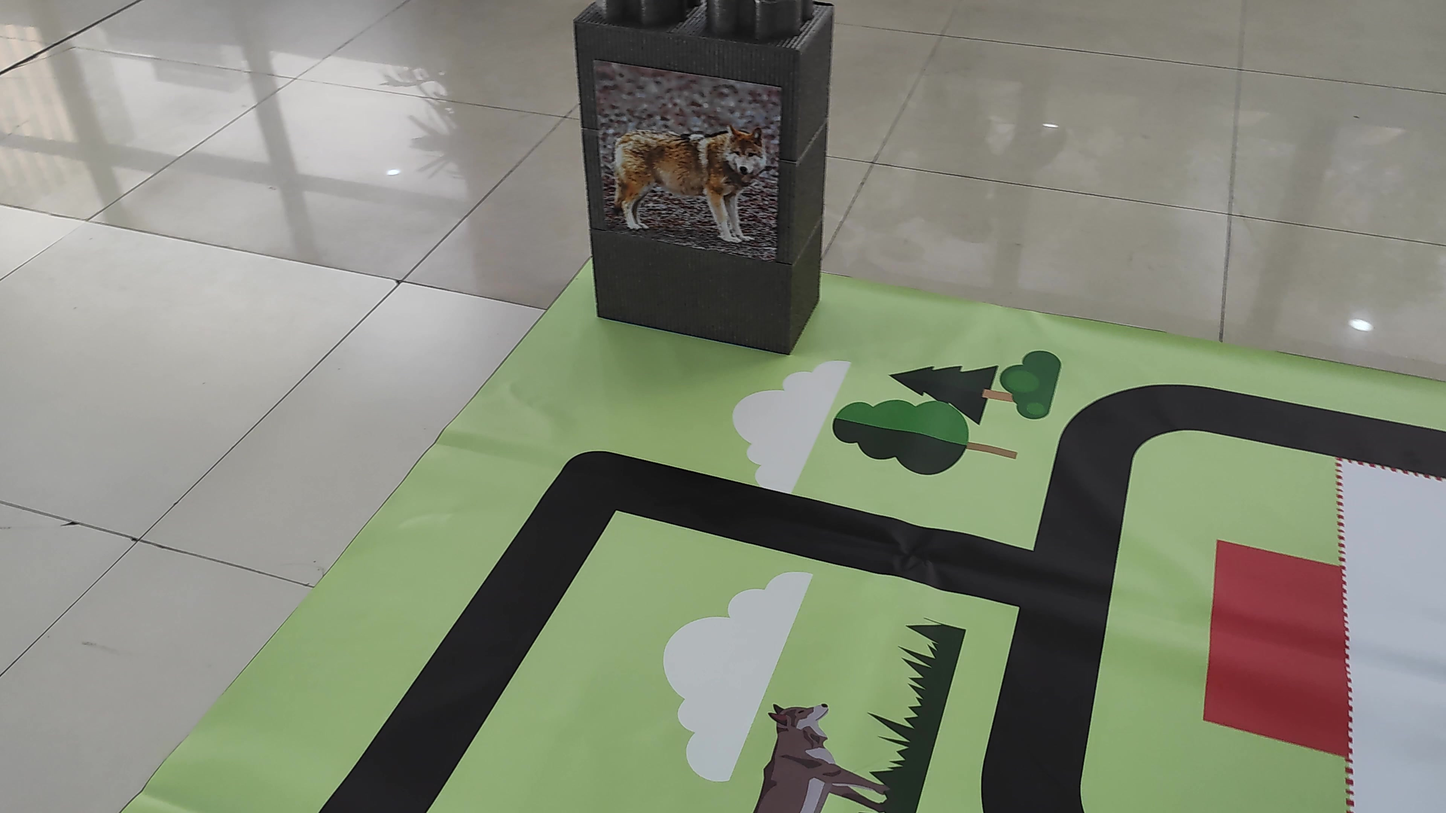wolf: (593, 87, 770, 251)
